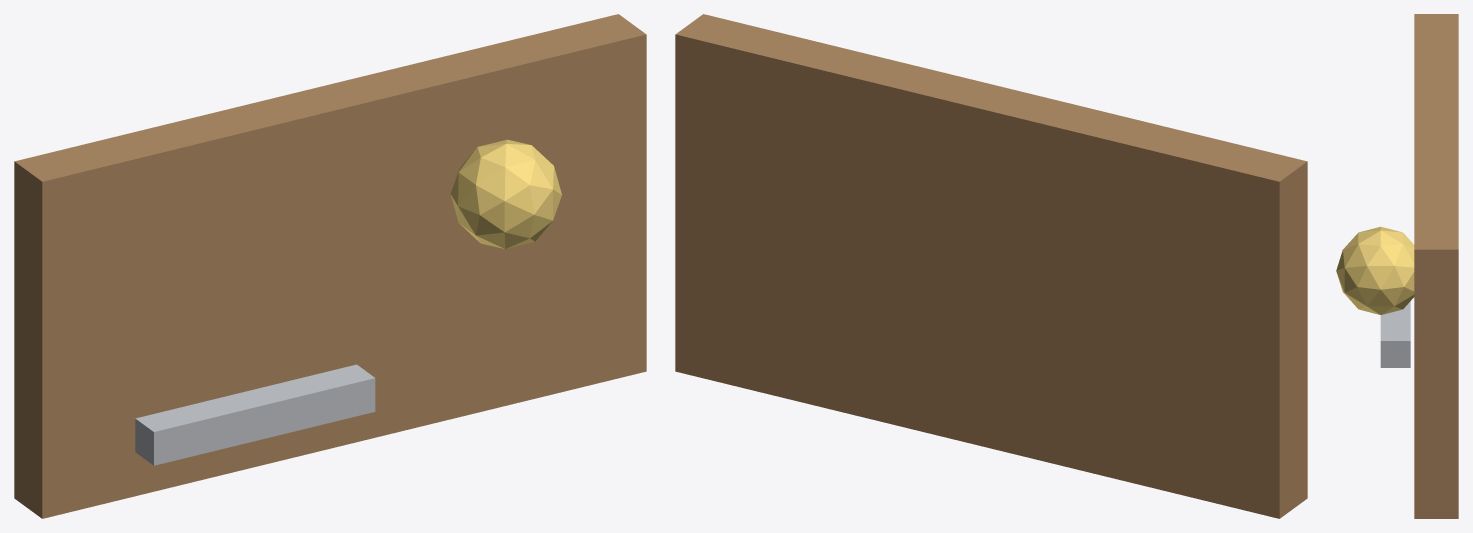
The model's file is armor_dye_station.glb.
3 views of the same model, side by side, from view 1: azimuth 30°, elevation 25°; view 2: azimuth 150°, elevation 25°; view 3: azimuth 270°, elevation 25° (orthographic). The views are drawn at different scales.
Visible parts, largest first — view 1: bench_top, tool_a, power_core; view 2: bench_top; view 3: bench_top, power_core, tool_a.
Part boxes in pixels (x1,y1,x2,y2): bench_top: (14,14,646,518); tool_a: (135,364,375,465); power_core: (450,139,561,248); bench_top: (675,14,1307,518); bench_top: (1414,14,1458,518); power_core: (1336,226,1414,314); tool_a: (1380,301,1410,367).
Bounding box in the file's own units: 1.5 × 0.8 × 0.33.
